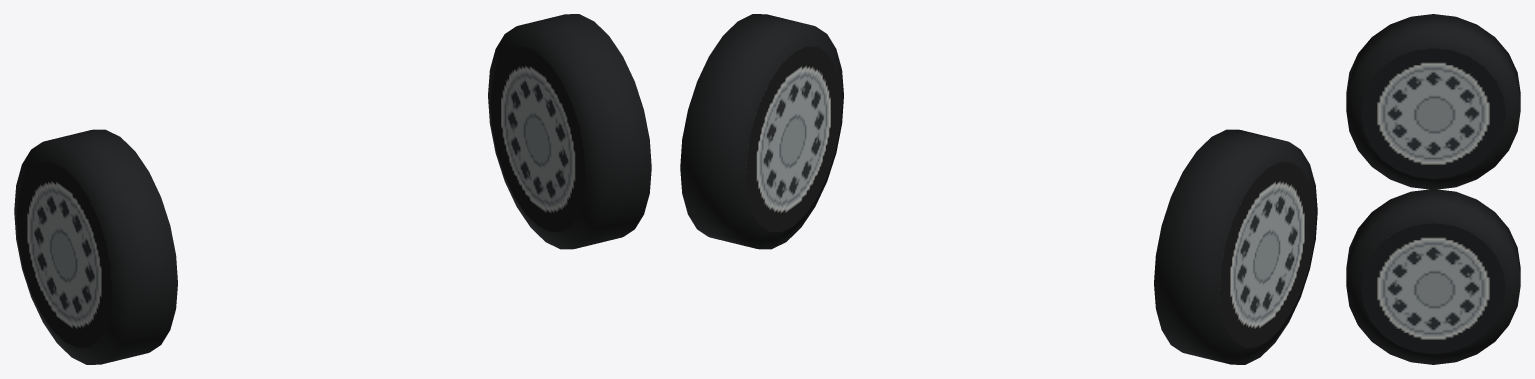
Rendered from nissan_180sx_wheels_r.obj.
The picture shows the model from 3 angles, left to right: view 1: azimuth 30°, elevation 25°; view 2: azimuth 150°, elevation 25°; view 3: azimuth 270°, elevation 25°; orthographic projection. The views are drawn at different scales.
Parts seen in each view (by area): view 1: nissan_180sx_wheels_r; view 2: nissan_180sx_wheels_r; view 3: nissan_180sx_wheels_r.
Part boxes in pixels (<box>): nissan_180sx_wheels_r: <box>14,14,651,364</box>; nissan_180sx_wheels_r: <box>680,14,1317,364</box>; nissan_180sx_wheels_r: <box>1346,14,1520,364</box>.
Size of the model in its own units: 1.66 by 0.6152 by 0.6152.
1 material, 1 textured.
